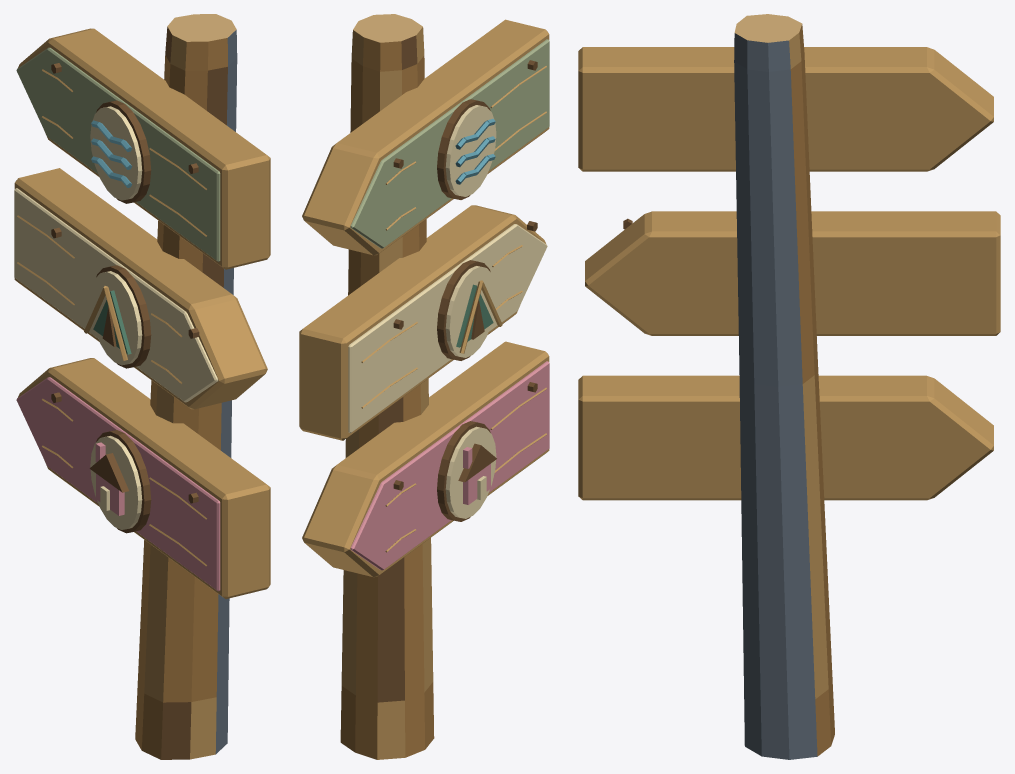
The model's file is SM_ForestSignpost.fbx.
The picture shows the model from 3 angles, left to right: view 1: azimuth 30°, elevation 25°; view 2: azimuth 150°, elevation 25°; view 3: azimuth 270°, elevation 25°; orthographic projection. The views are drawn at different scales.
Visible parts, largest first — view 1: SM_ForestSignpost; view 2: SM_ForestSignpost; view 3: SM_ForestSignpost.
Part boxes in pixels (x1=…): SM_ForestSignpost: x1=14, y1=14, x2=270, y2=759; SM_ForestSignpost: x1=299, y1=14, x2=549, y2=759; SM_ForestSignpost: x1=578, y1=14, x2=1000, y2=759.
Size of the model in its own units: 0.4507 by 1.28 by 2.4.
